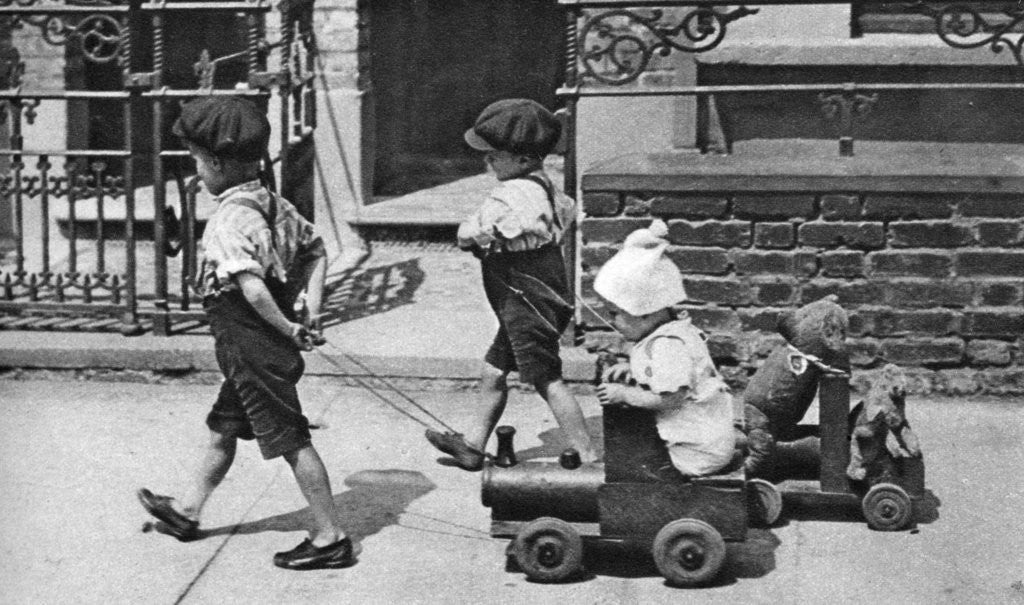Person: (144, 91, 364, 576), (451, 94, 603, 474)
